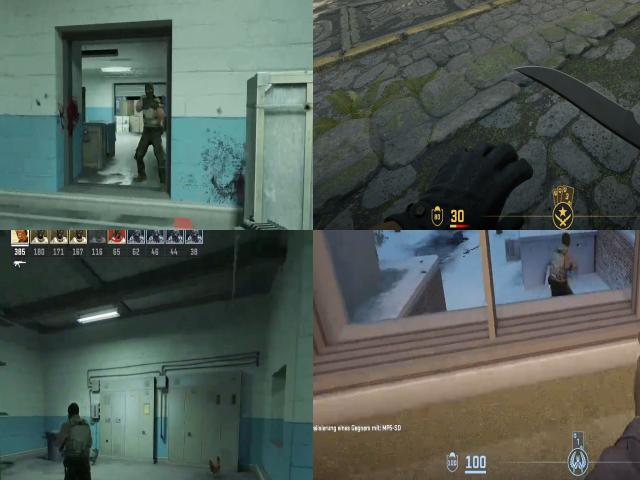Dead: (442, 230, 470, 249)
T: (57, 399, 94, 473), (540, 230, 580, 290), (136, 82, 168, 141)
T-Head: (136, 84, 159, 110), (65, 403, 82, 426), (559, 232, 574, 255)
